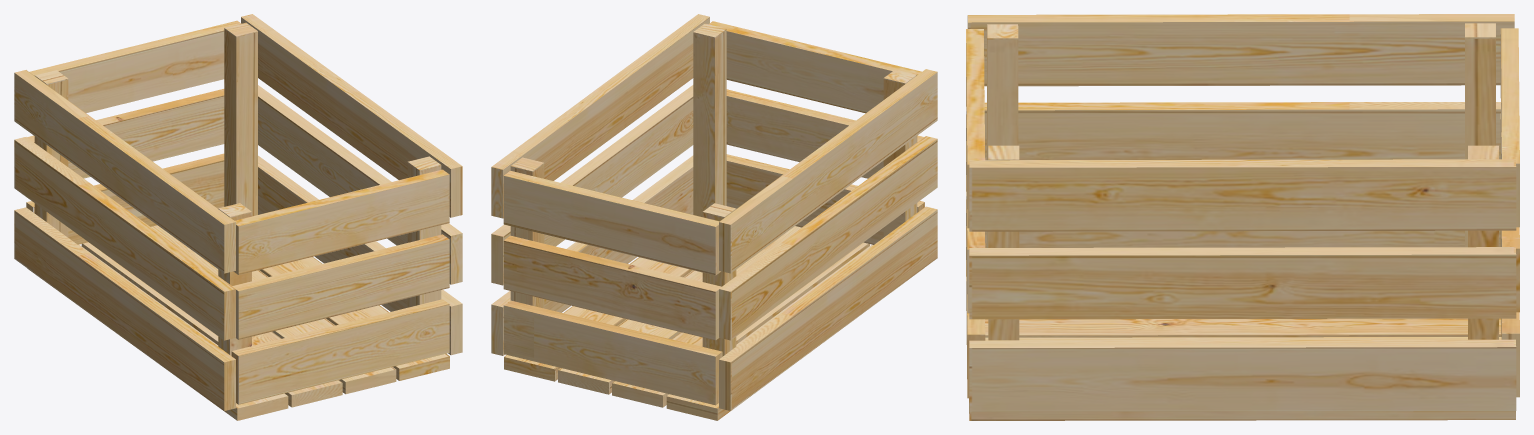
The model's file is cajon verduleria singular.glb.
3 renders of one model, left to right at view 1: azimuth 30°, elevation 25°; view 2: azimuth 150°, elevation 25°; view 3: azimuth 270°, elevation 25°, orthographic. The views are drawn at different scales.
Visible parts, largest first — view 1: 3; view 2: 3; view 3: 3.
Boxes of the visible parts, x1,y1,x2,y2 form: 3: (14,14,462,420); 3: (491,14,937,420); 3: (966,14,1519,420).
Size of the model in its own units: 1.99 by 1.58 by 3.03.
Materials: 1 (1 with a texture image).
